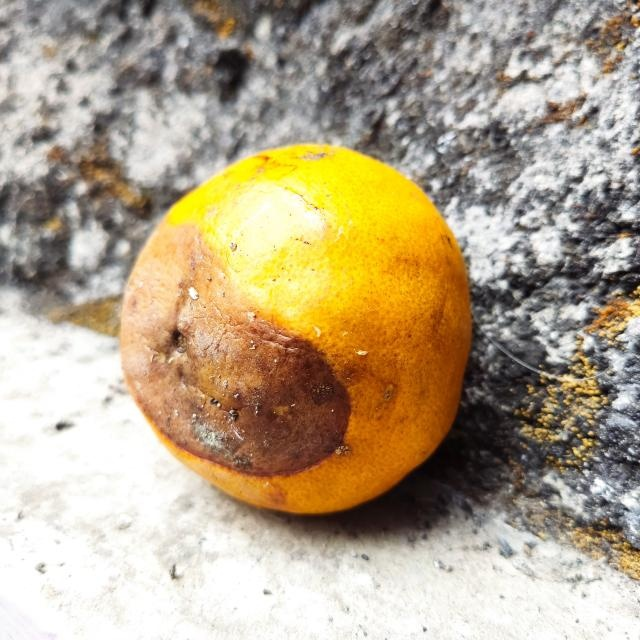agrume: (118, 144, 473, 512)
